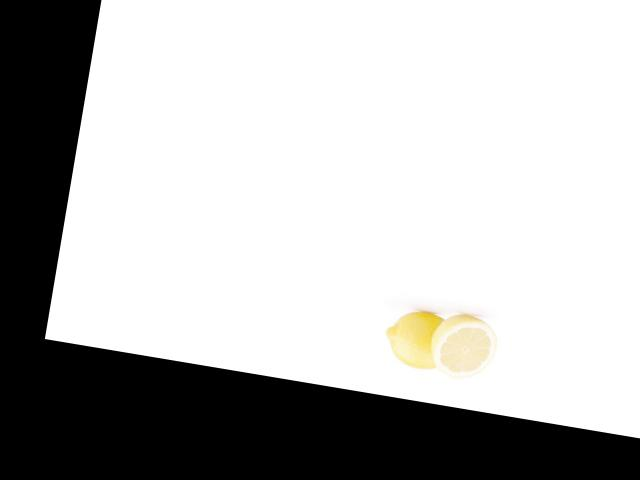lemon: (377, 298, 456, 376)
